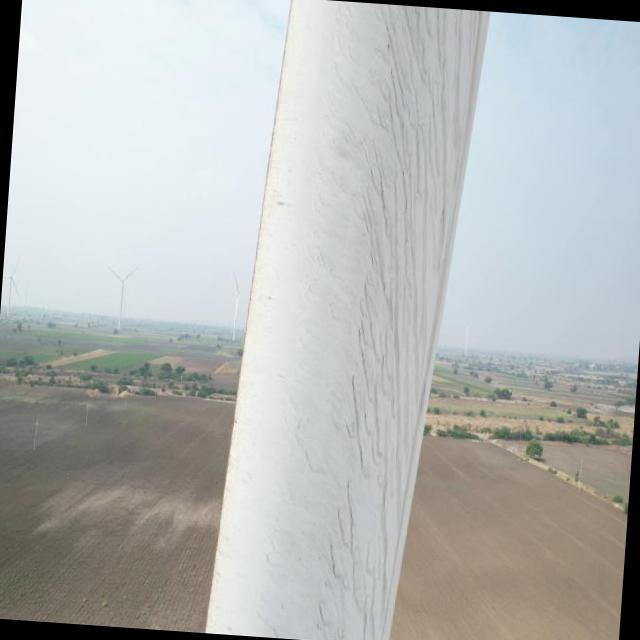Dirt: (308, 9, 490, 640)
